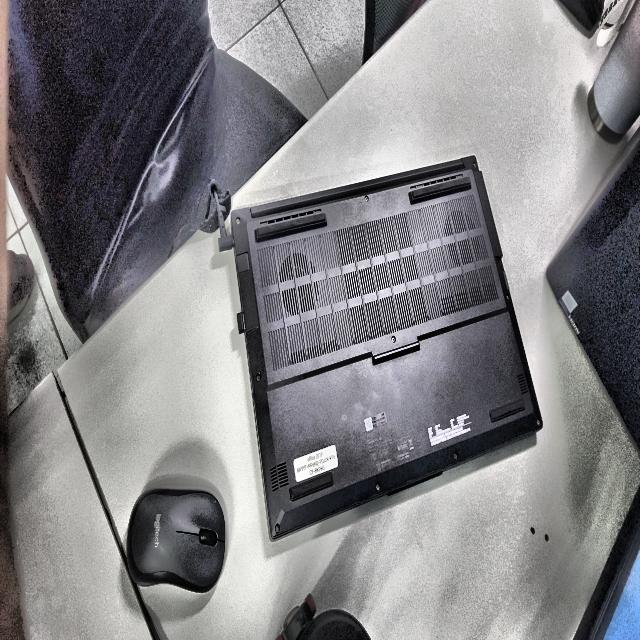Laptop: (233, 157, 541, 540)
MOUSE: (127, 489, 227, 591)
